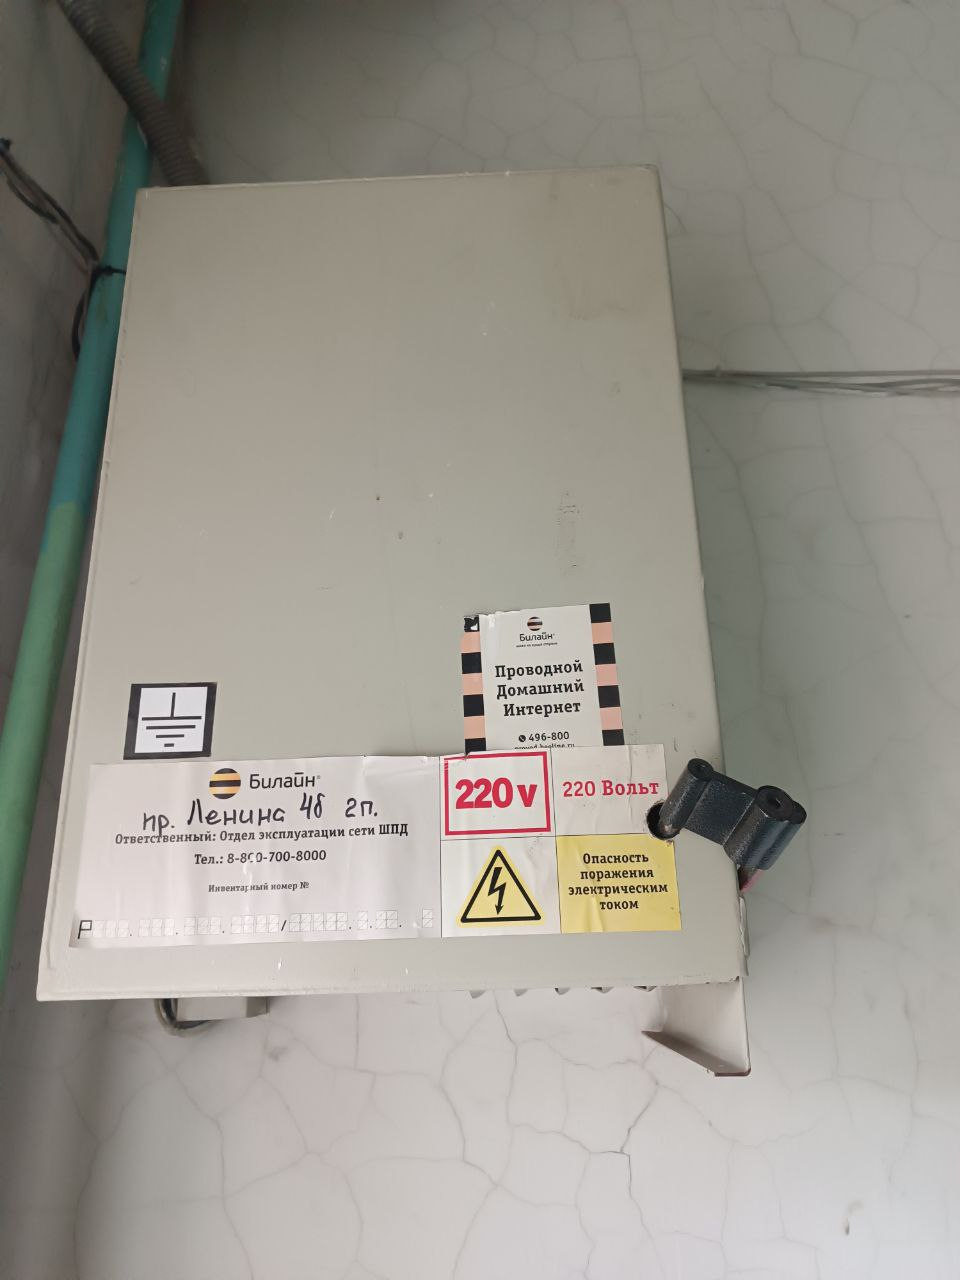sv-5: (22, 158, 765, 1015)
